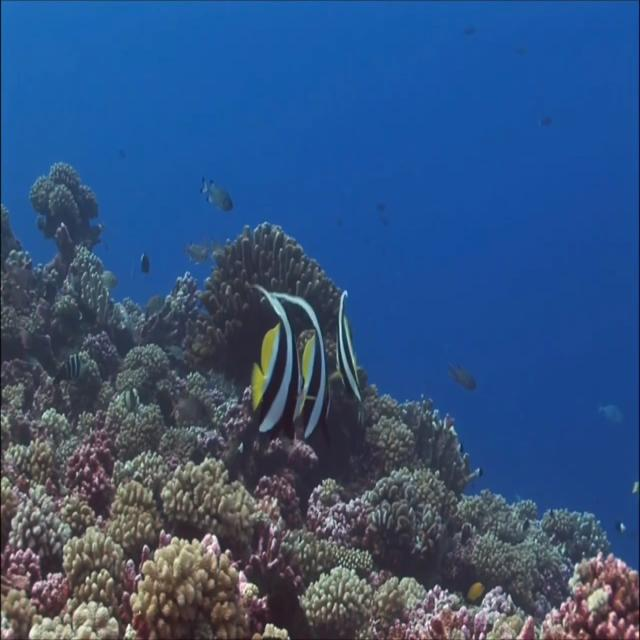Bannerfish: (253, 282, 306, 436), (280, 284, 330, 434), (336, 290, 360, 405)
